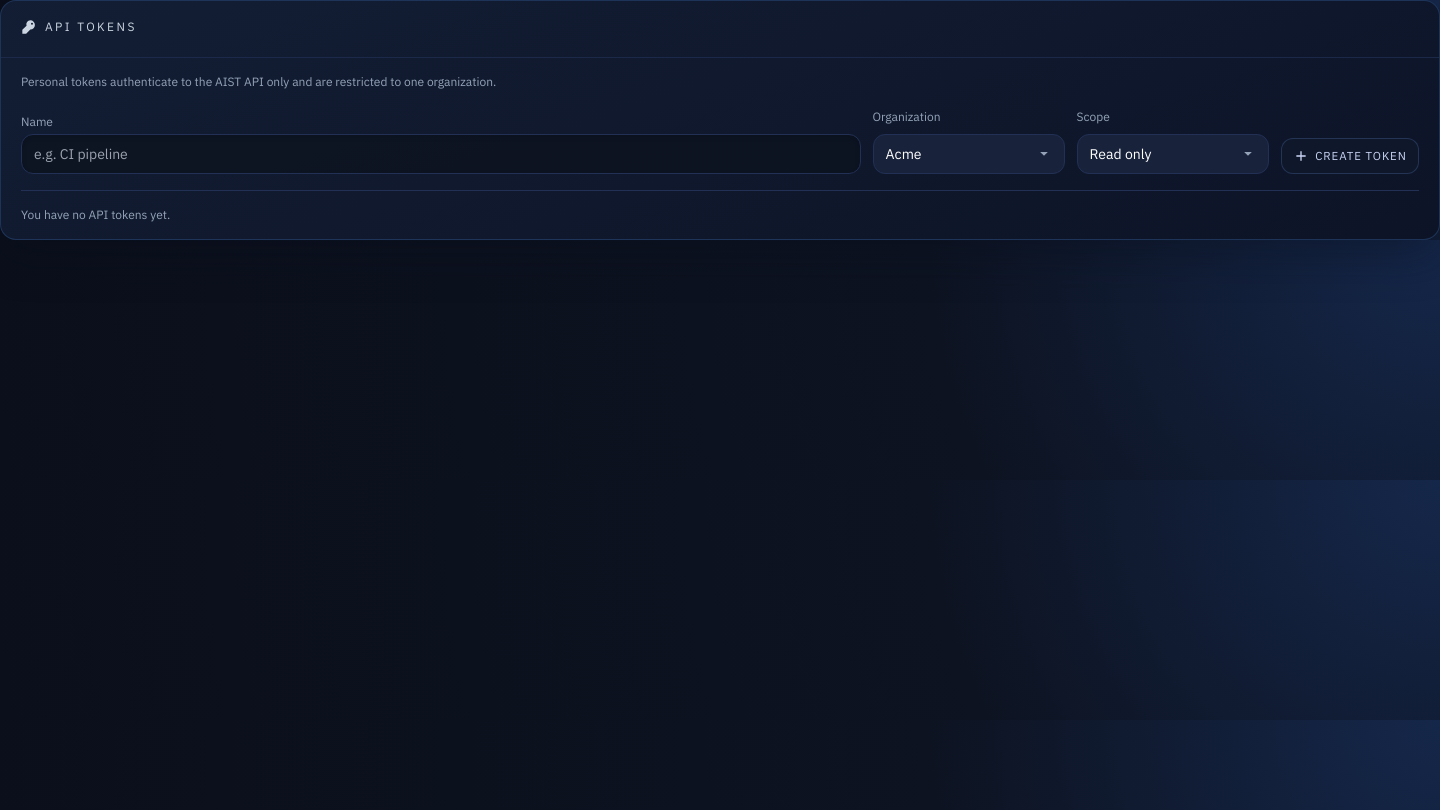
Scenario: MyTokensSection — created-secret lifecycle › clears the secret from the DOM after Done, and never writes it to localStorage/sessionStorage
Type "CI pipeline" into the field with placeholder "e.g. CI pipeline" at [441, 154], box [21,134,861,174]
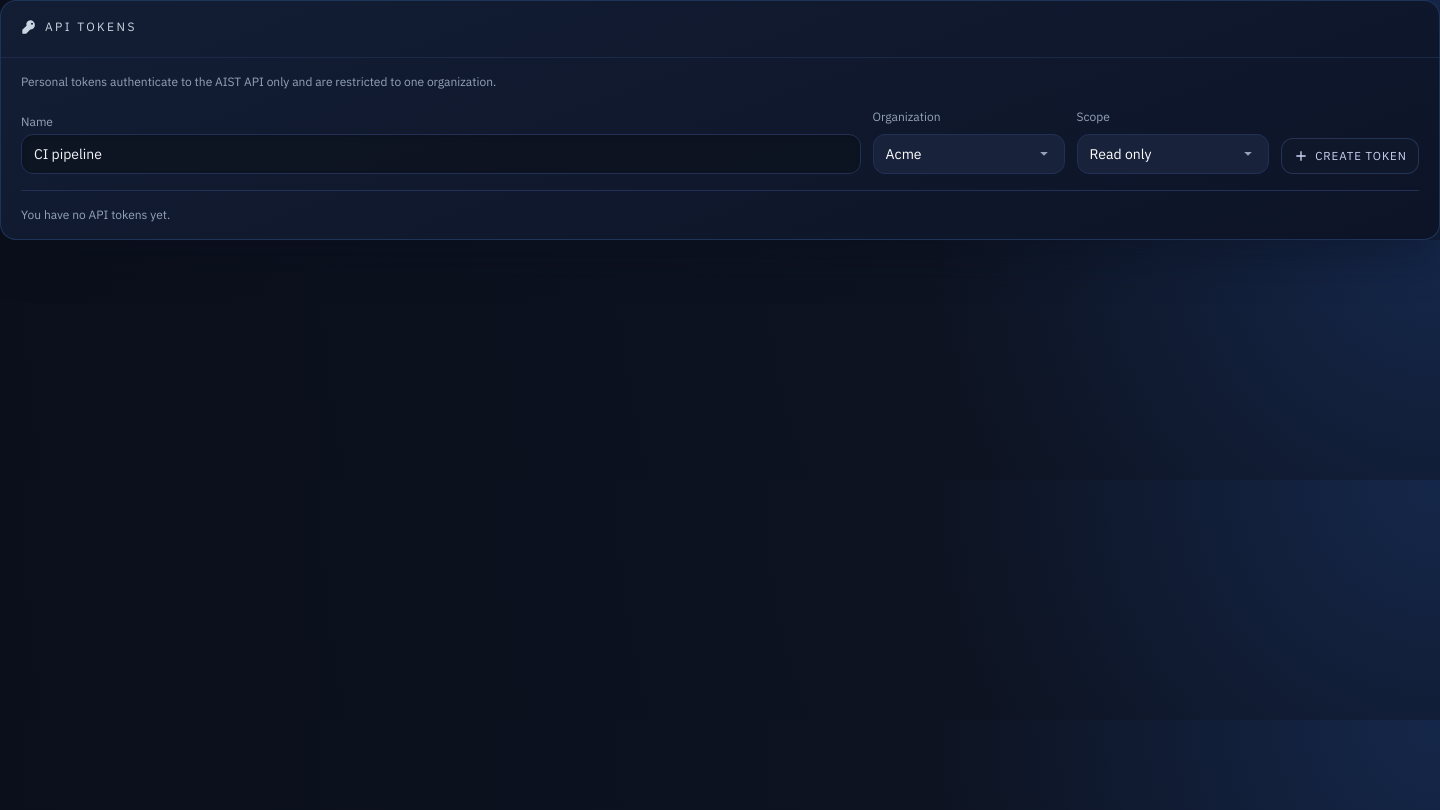
Click the button "Create token" at [1350, 156], box [1281,138,1419,174]
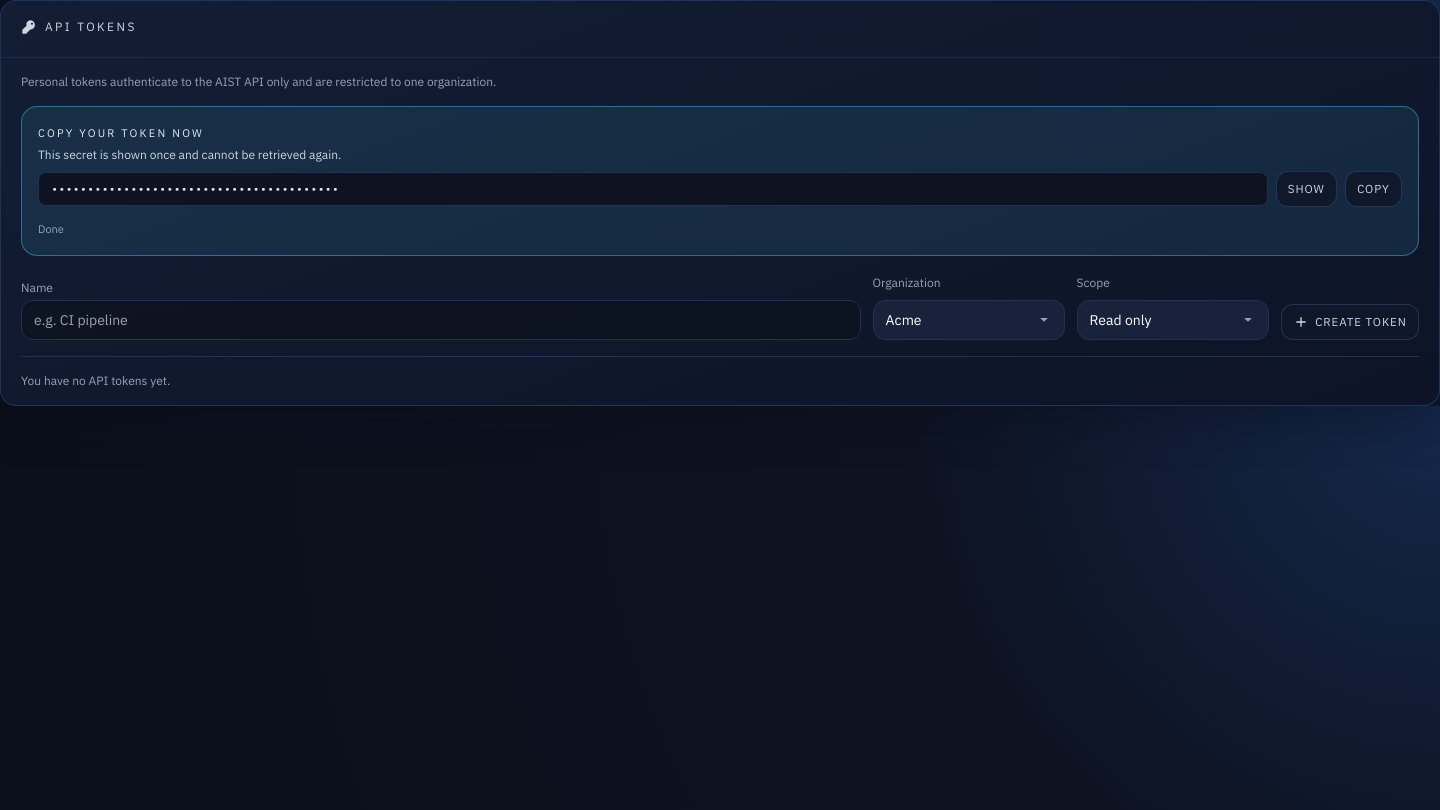
Click the button "Done" at [51, 229], box [38,219,64,239]
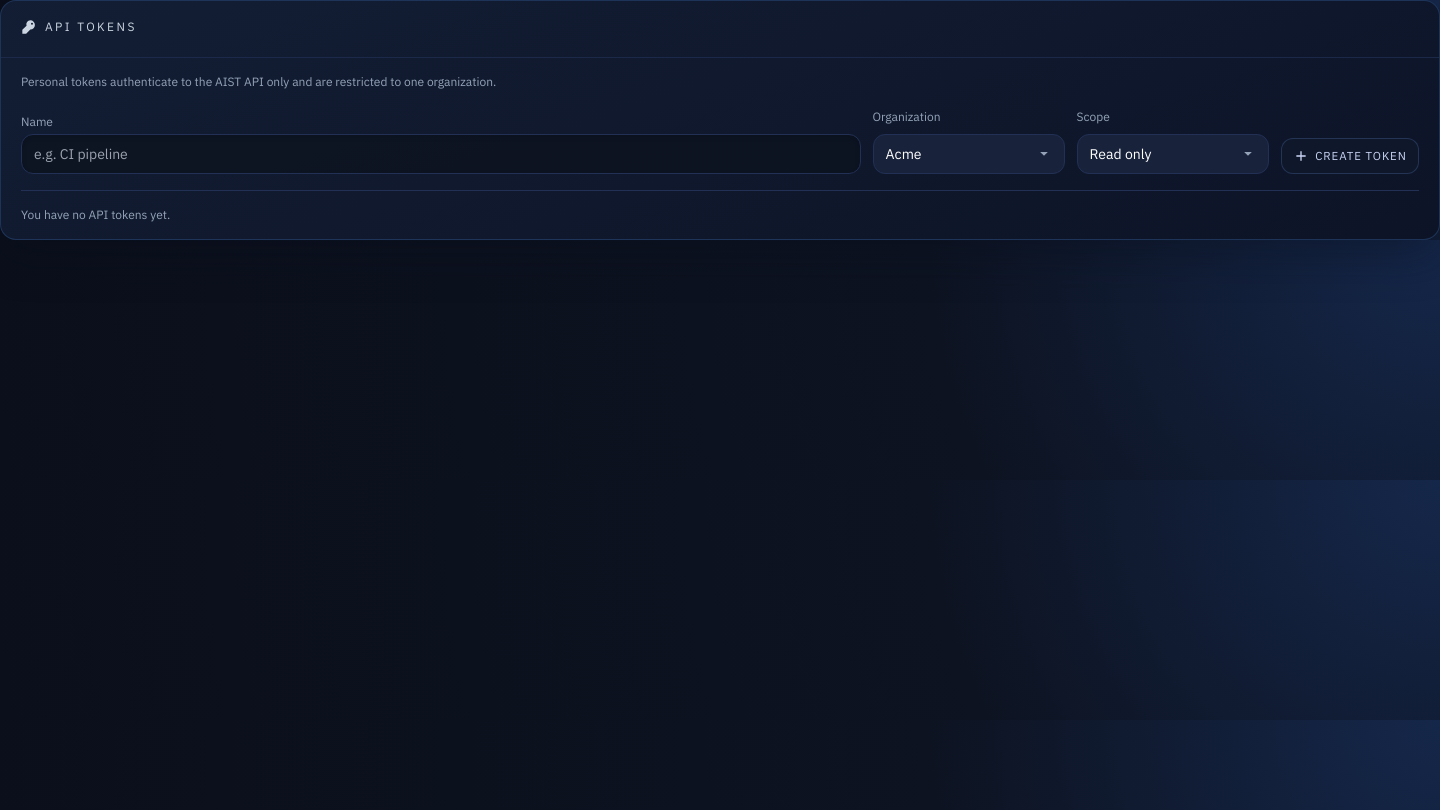
Now the button "Done" is gone
